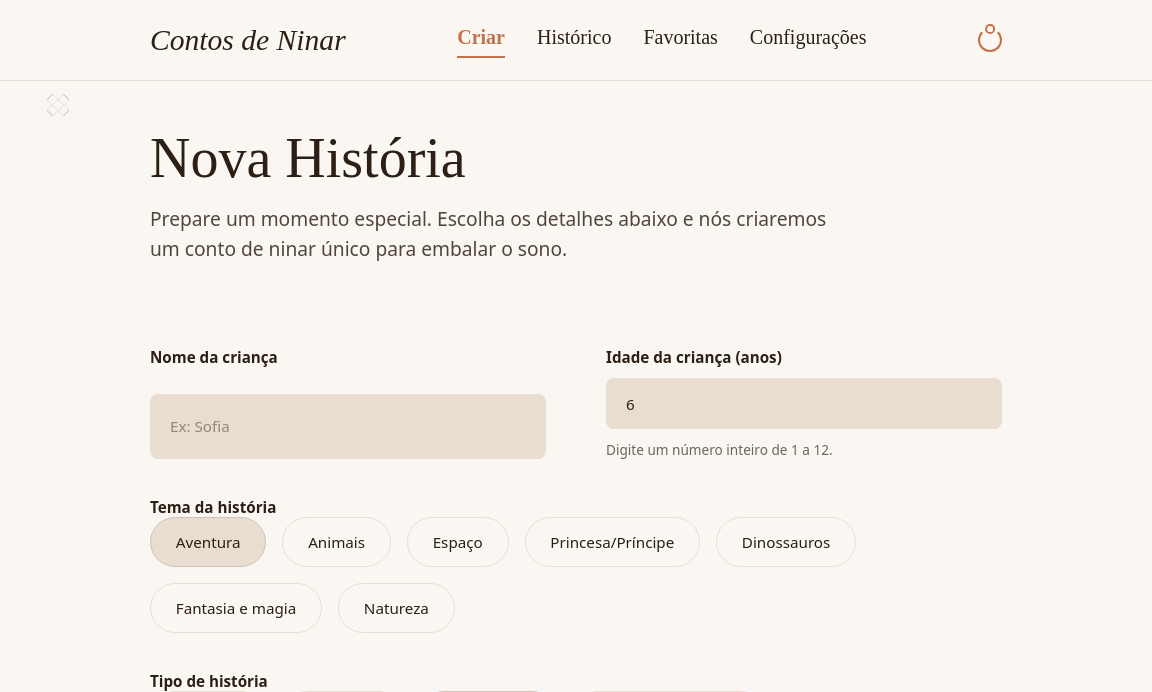
Test: Favorite stories › unfavoriting from Favorites removes it from Favorites without deleting it from History
Step 1. Click the tab "Favoritas" → (681, 40), box top-left (643, 22), bottom-right (718, 58)
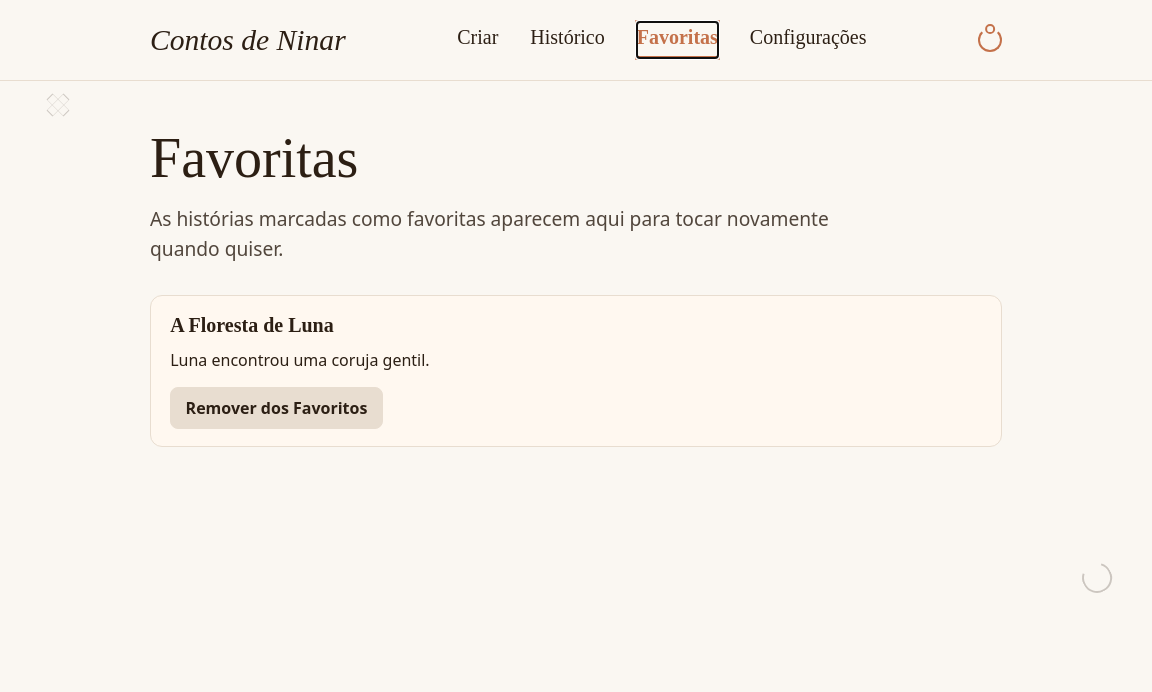
Step 2. Click the button "Remover dos Favoritos" → (276, 408), box top-left (170, 387), bottom-right (383, 429)
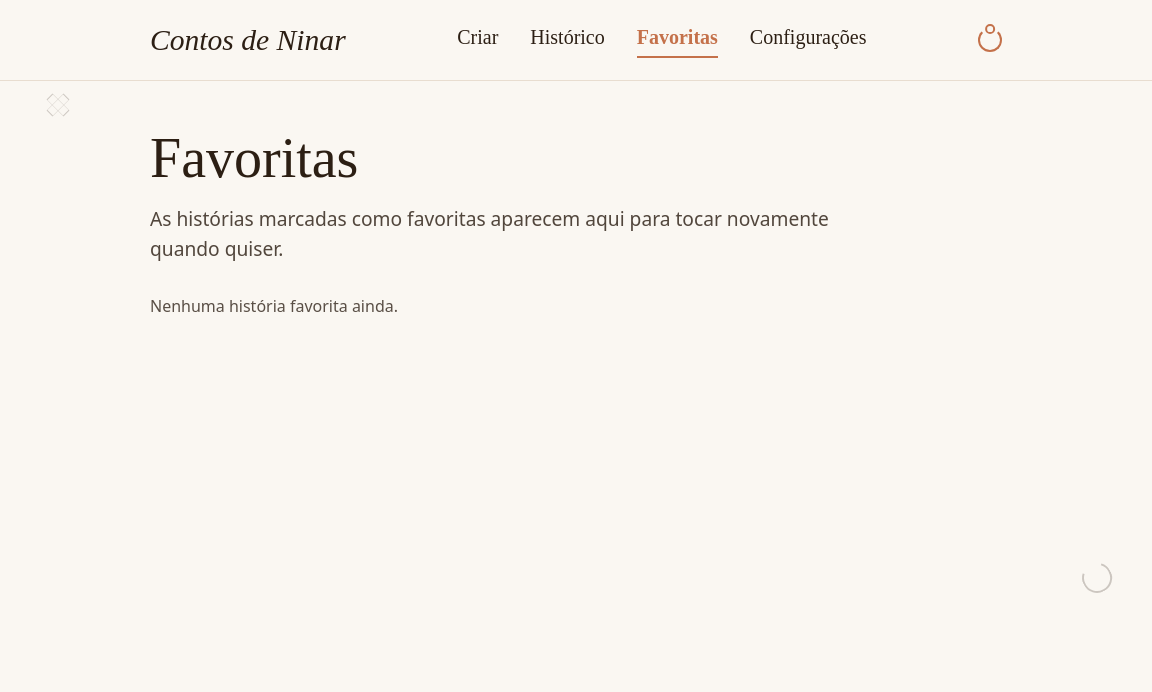
Expected: the text "Nenhuma história favorita ainda." is shown, top-left (150, 295), bottom-right (398, 317)
Expected: the heading "A Floresta de Luna" is gone
Step 3. Click the tab "Histórico" → (568, 40), box top-left (530, 22), bottom-right (605, 58)
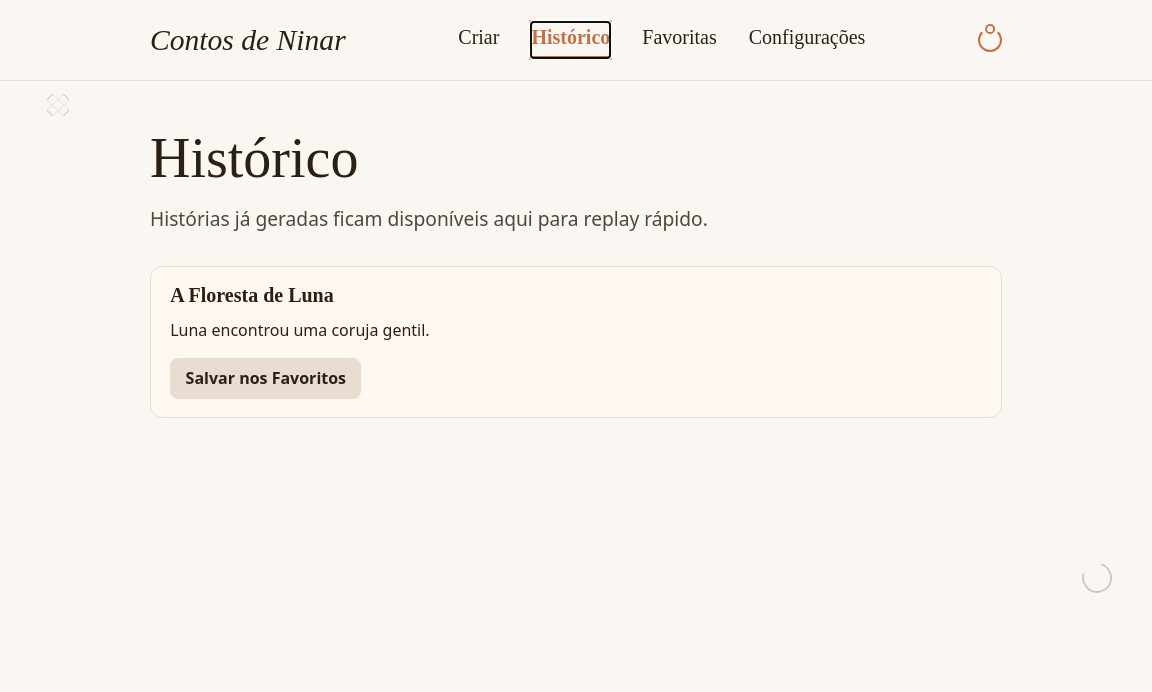
Expected: the heading "A Floresta de Luna" is shown, top-left (170, 284), bottom-right (334, 306)
Expected: the button "Salvar nos Favoritos" is shown, top-left (170, 358), bottom-right (362, 399)
